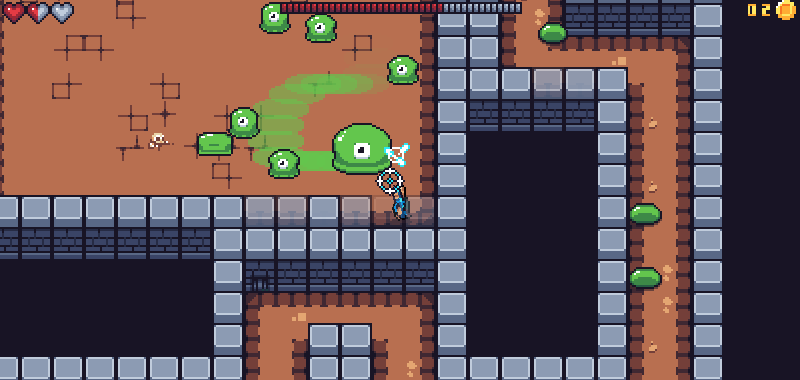enemy_slug: (625, 265, 663, 291), (626, 201, 663, 227), (536, 21, 568, 45)
enemy_slug_big: (265, 145, 303, 179), (255, 2, 293, 35), (227, 104, 263, 137), (386, 53, 419, 86), (195, 132, 234, 159), (303, 14, 338, 44)
enemy_slug_boss: (326, 118, 396, 178)
